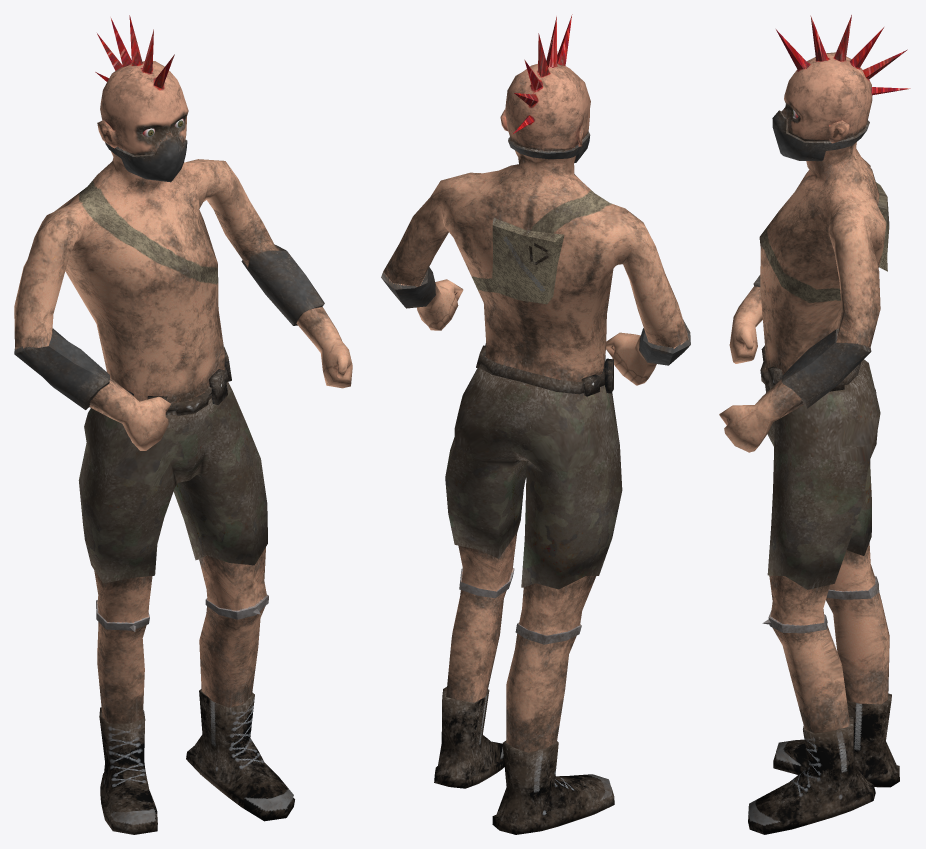
The model's file is Anim_disparar_ametralladora_npc2.0034.obj.
3 views of the same model, side by side, from view 1: azimuth 30°, elevation 25°; view 2: azimuth 150°, elevation 25°; view 3: azimuth 270°, elevation 25° (orthographic). The views are drawn at different scales.
Parts seen in each view (by area): view 1: polySurface1; view 2: polySurface1; view 3: polySurface1.
Boxes of the visible parts, bbox=[...] form: polySurface1: bbox=[14, 15, 352, 834]; polySurface1: bbox=[381, 14, 690, 834]; polySurface1: bbox=[719, 15, 910, 834].
Size of the model in its own units: 4.06 by 10.22 by 2.32.
2 materials, 2 textured.
